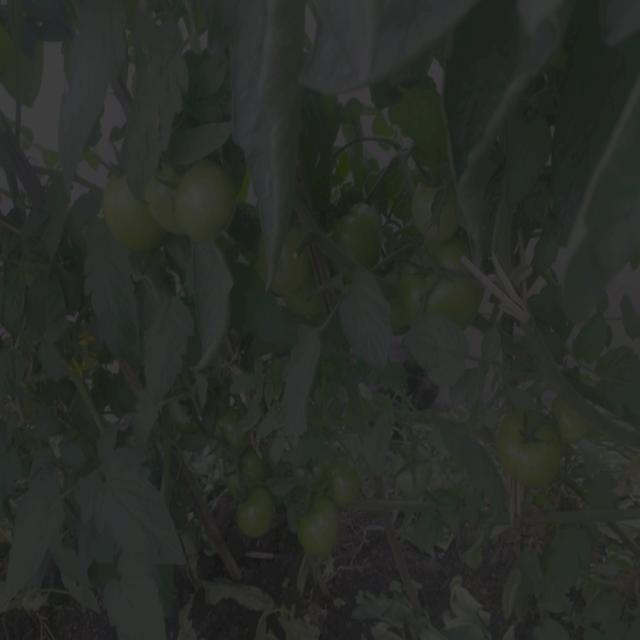tomato: (173, 159, 245, 245), (104, 171, 169, 254), (496, 408, 561, 484), (406, 265, 486, 322), (337, 203, 394, 271), (413, 171, 460, 238), (302, 503, 353, 553), (276, 241, 318, 299), (233, 491, 279, 539), (141, 166, 178, 222), (556, 399, 589, 447), (332, 462, 368, 505), (242, 454, 279, 492), (219, 408, 244, 449), (170, 399, 189, 423)
